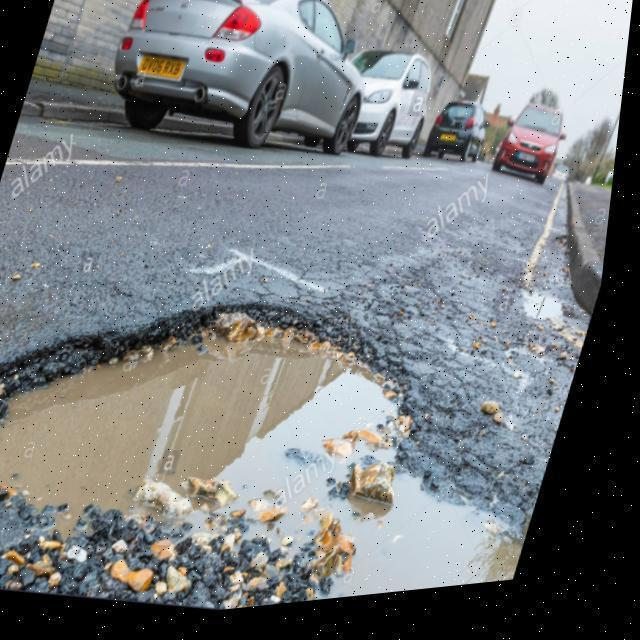Pothole: (0, 289, 539, 607)
